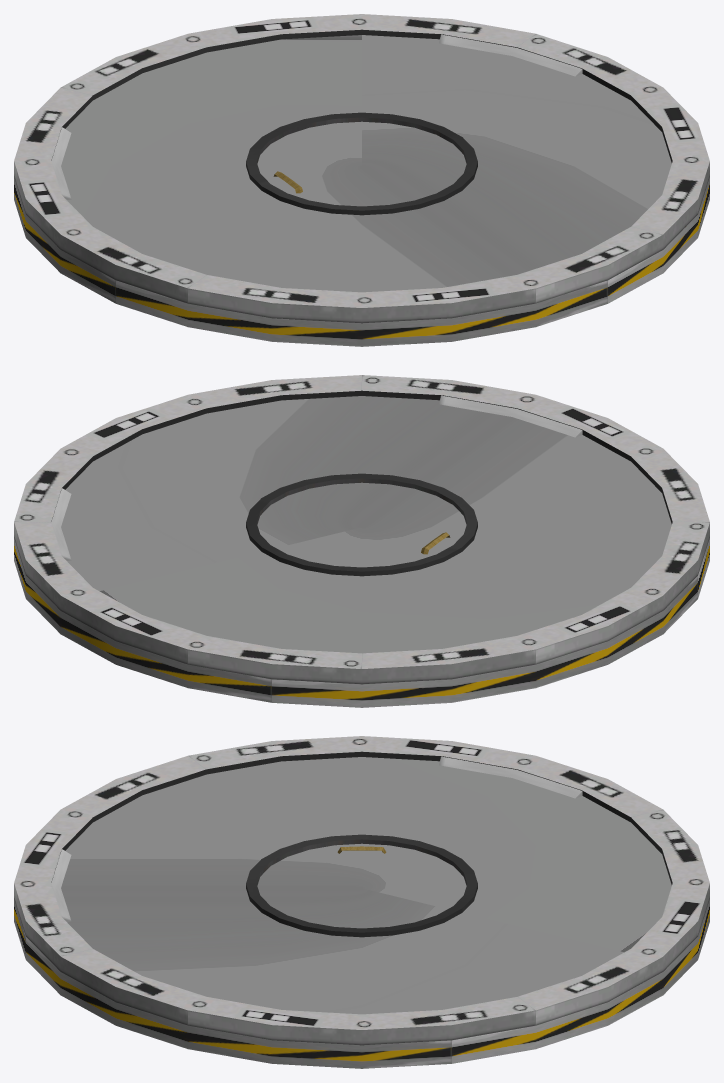
The model's file is DR-18DockingPort.FBX.
3 views of the same model, one above another, from view 1: azimuth 30°, elevation 25°; view 2: azimuth 150°, elevation 25°; view 3: azimuth 270°, elevation 25° (orthographic).
Visible parts, largest first — view 1: Cylinder002, HexPortBodyOpen, Cylinder001, EndCap008, AlignmentTool003, AlignmentTool002; view 2: Cylinder002, HexPortBodyOpen, Cylinder001, EndCap008, AlignmentTool001, AlignmentTool003; view 3: Cylinder002, HexPortBodyOpen, Cylinder001, EndCap008, AlignmentTool002, AlignmentTool001.
Part boxes in pixels (bbox=[...]): Cylinder002: bbox=[38, 35, 686, 323]; HexPortBodyOpen: bbox=[14, 14, 709, 323]; Cylinder001: bbox=[14, 177, 709, 346]; EndCap008: bbox=[246, 112, 477, 215]; AlignmentTool003: bbox=[439, 34, 582, 76]; AlignmentTool002: bbox=[51, 127, 71, 199]; Cylinder002: bbox=[37, 396, 685, 684]; HexPortBodyOpen: bbox=[14, 375, 709, 684]; Cylinder001: bbox=[14, 538, 709, 707]; EndCap008: bbox=[246, 473, 477, 576]; AlignmentTool001: bbox=[439, 395, 582, 437]; AlignmentTool003: bbox=[51, 488, 71, 560]; Cylinder002: bbox=[37, 757, 685, 1045]; HexPortBodyOpen: bbox=[14, 736, 709, 1045]; Cylinder001: bbox=[14, 899, 709, 1068]; EndCap008: bbox=[246, 834, 477, 937]; AlignmentTool002: bbox=[439, 756, 582, 798]; AlignmentTool001: bbox=[51, 849, 71, 921].
Size of the model in its own units: 1.88 by 0.1174 by 1.88.
